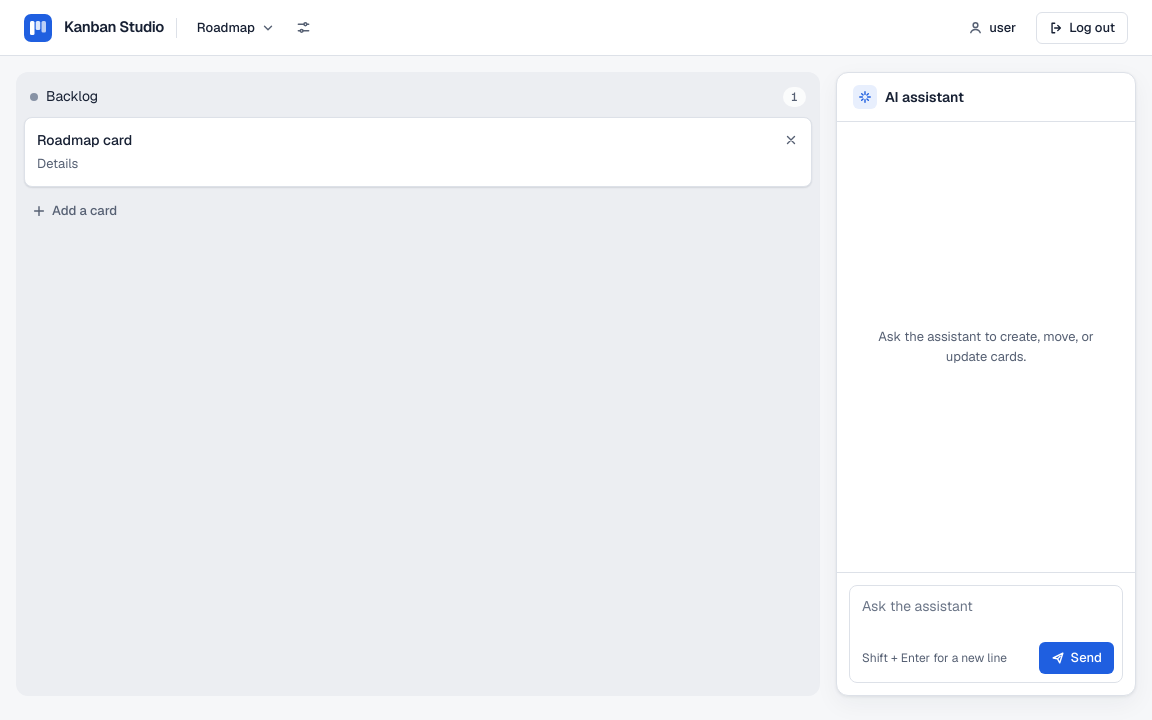
Test case: Boards › closes the board menu with Escape
Expected: the heading "Roadmap card" is shown, [37,130,132,150]
Click the button named "switch board" at [236, 28], box [189,12,283,44]
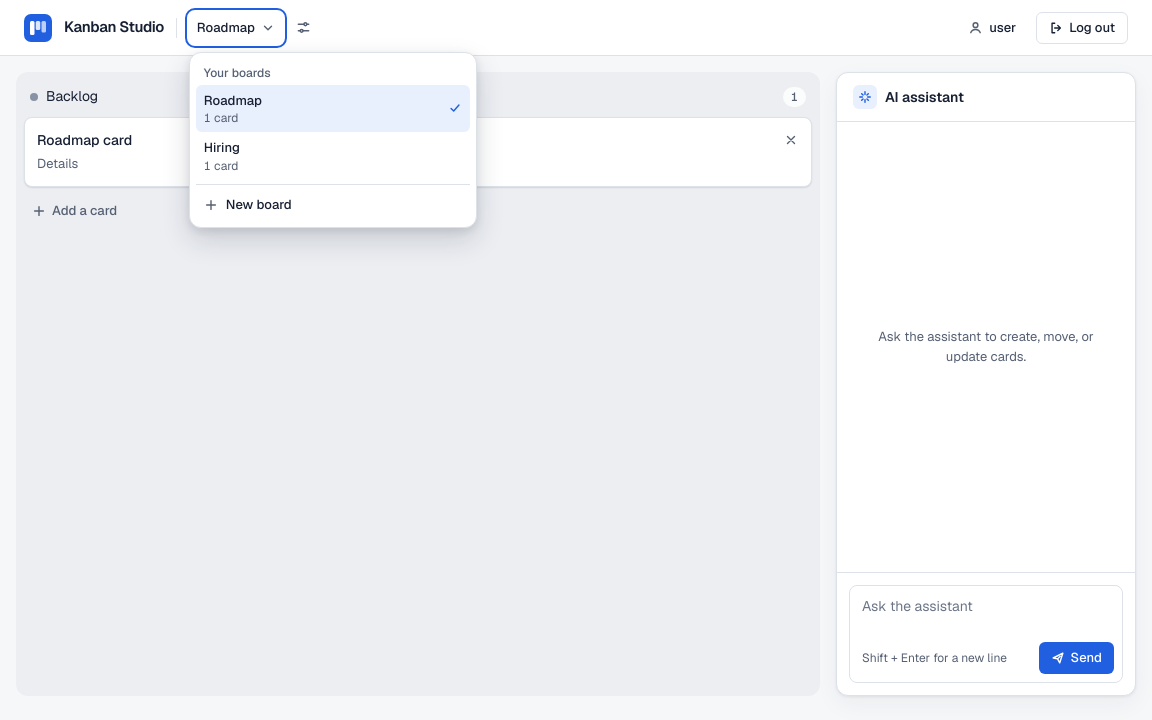
Press Escape
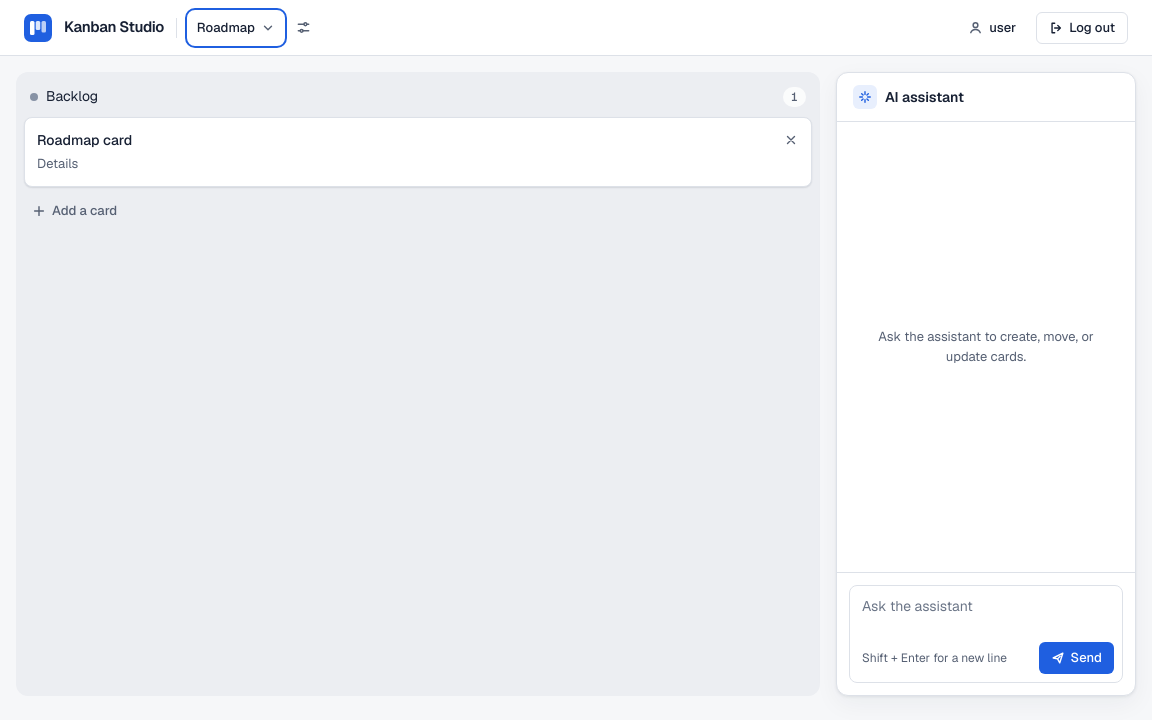
Expected: the menu is gone
